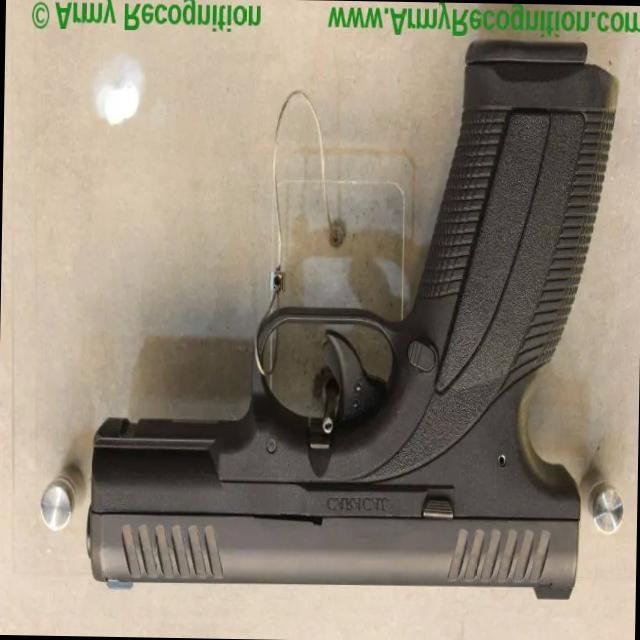Gun: (74, 30, 639, 628)
